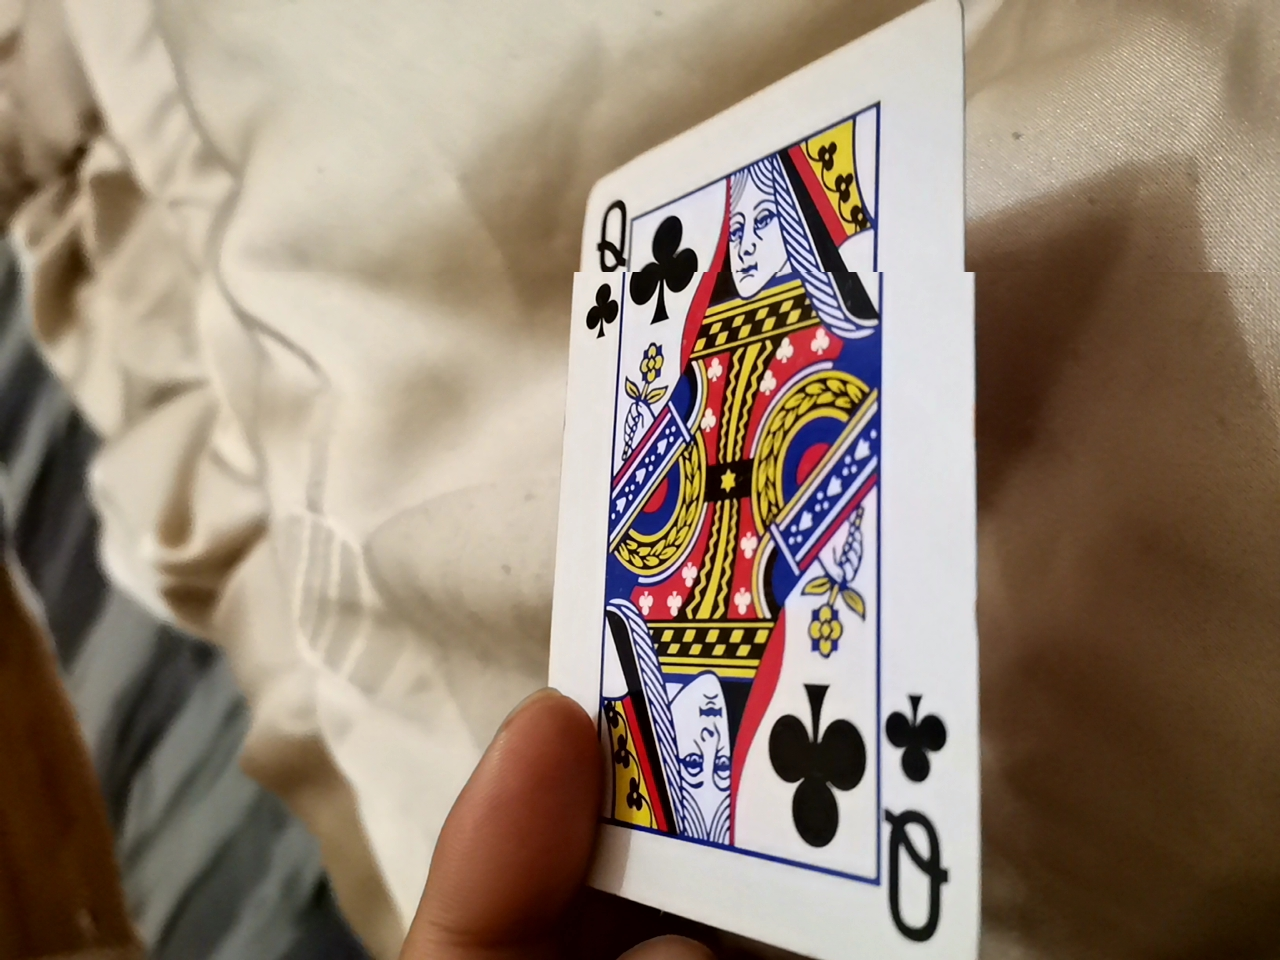mh q: (514, 28, 1007, 937)
